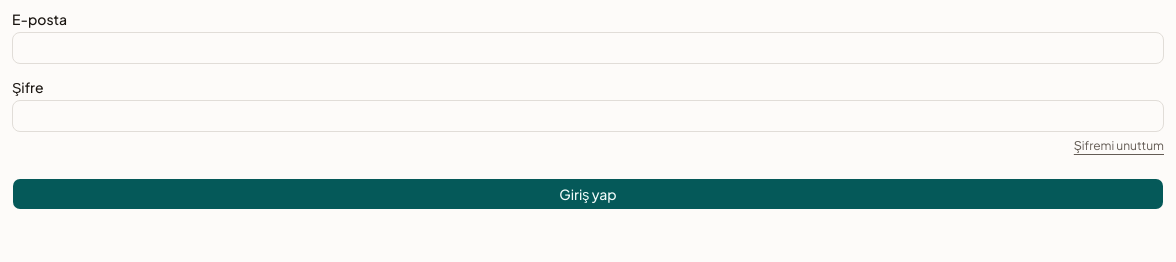
UI1-UI4 login form › UI3 a generic failure shows the generic message and NO resend offer; the e-mail the person typed stays
Step 1. Type "kisi@example.com" into the field labelled "E-posta" → (588, 48), box [12,32,1164,64]
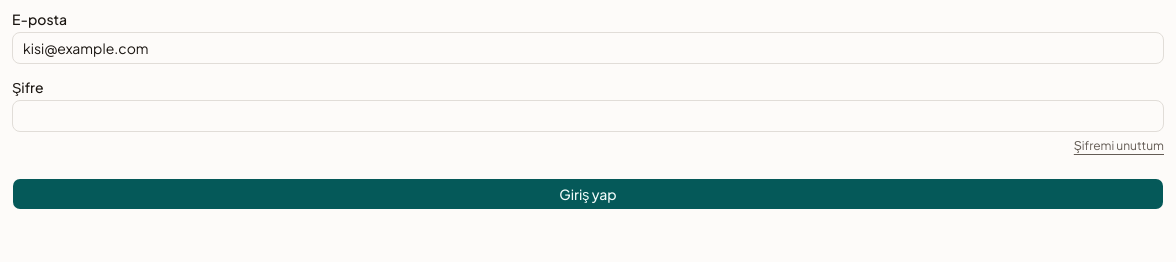
Step 2. Type "yanlis" into the password field labelled "Şifre" → (588, 116), box [12,100,1164,132]
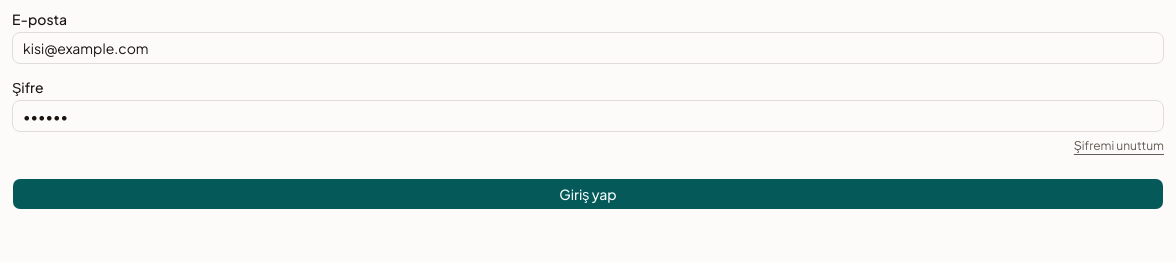
Step 3. Click the button "Giriş yap" → (588, 194), box [12,178,1164,210]
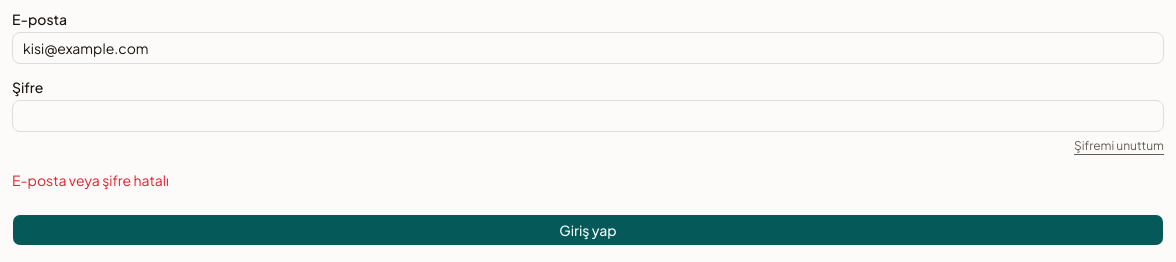
Now the message reads "E-posta veya şifre hatalı", box [12,171,169,189]
